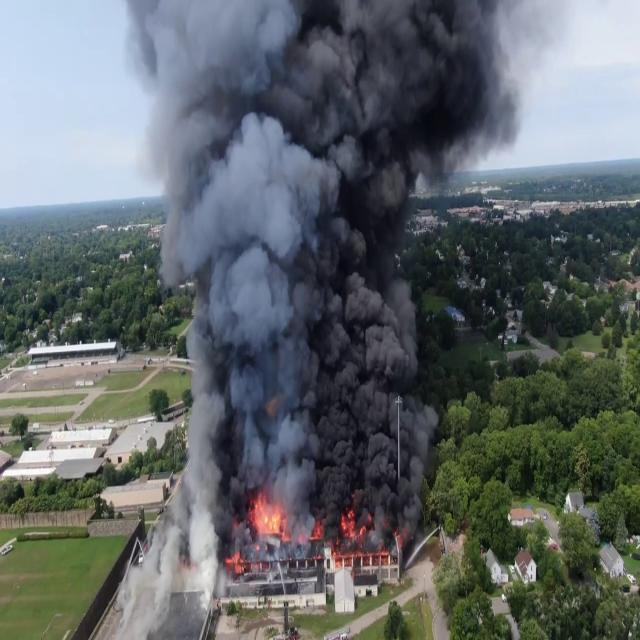Fire: (252, 494, 286, 548)
Smoke: (110, 2, 508, 534)
